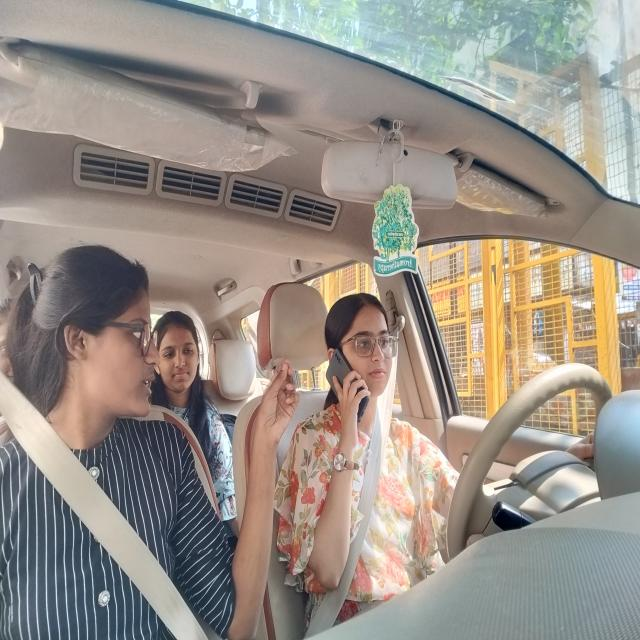mobile: (326, 350, 368, 424)
person: (35, 241, 158, 430), (323, 289, 396, 421), (151, 303, 201, 414)
